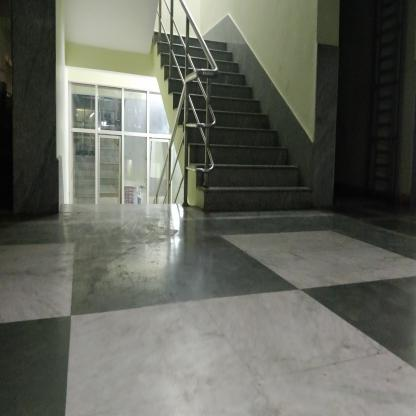stairs: (218, 110, 269, 213)
